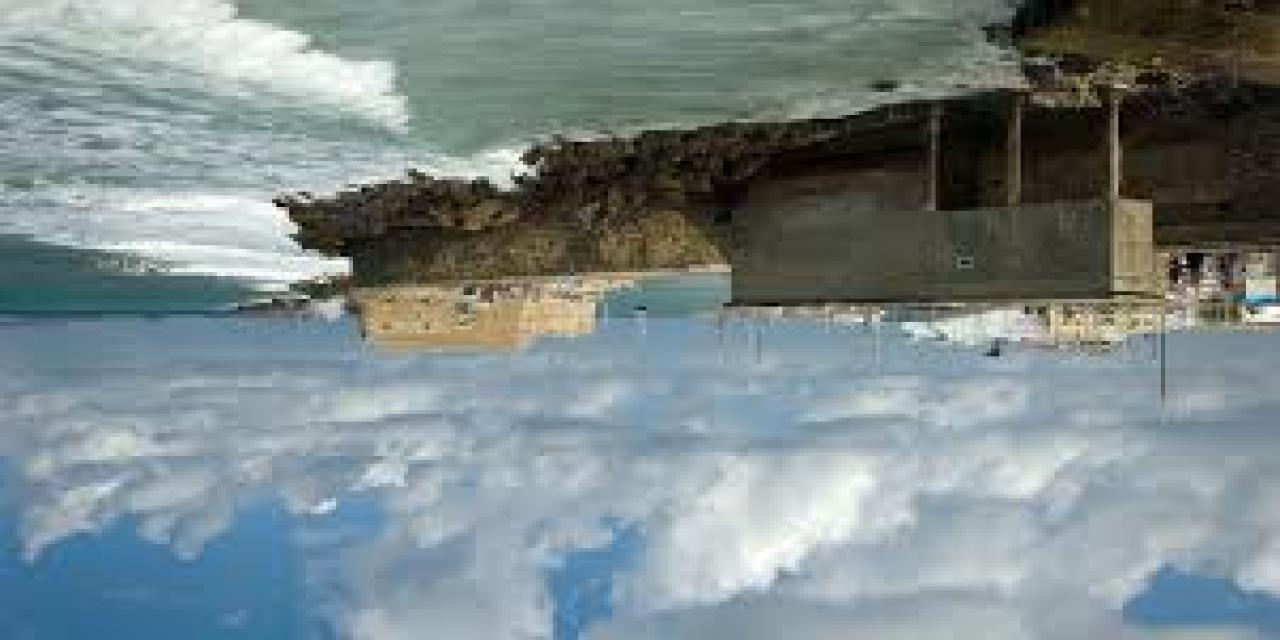Kules: (355, 283, 612, 354)
